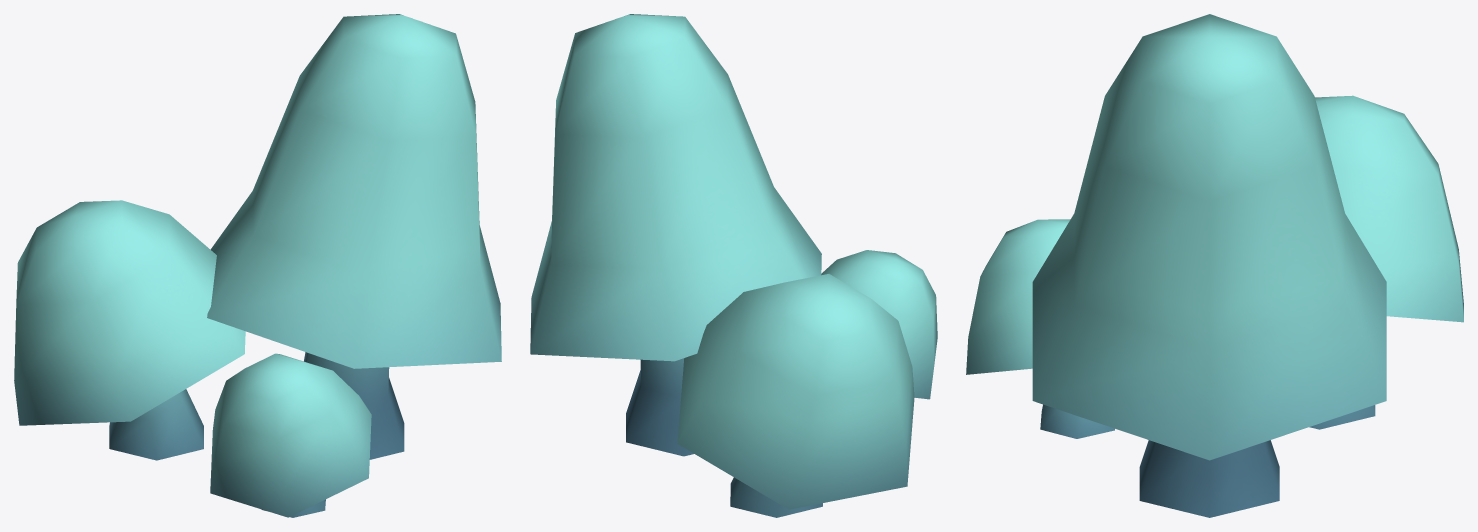
File: mushroom.fbx
3 renders of one model, left to right at view 1: azimuth 30°, elevation 25°; view 2: azimuth 150°, elevation 25°; view 3: azimuth 270°, elevation 25°, orthographic. The views are drawn at different scales.
Visible parts, largest first — view 1: Mushroom; view 2: Mushroom; view 3: Mushroom.
Boxes of the visible parts, x1,y1,x2,y2 form: Mushroom: (14, 14, 501, 517); Mushroom: (530, 14, 937, 517); Mushroom: (966, 14, 1463, 517).
Bounding box in the file's own units: 401 × 359 × 338.
